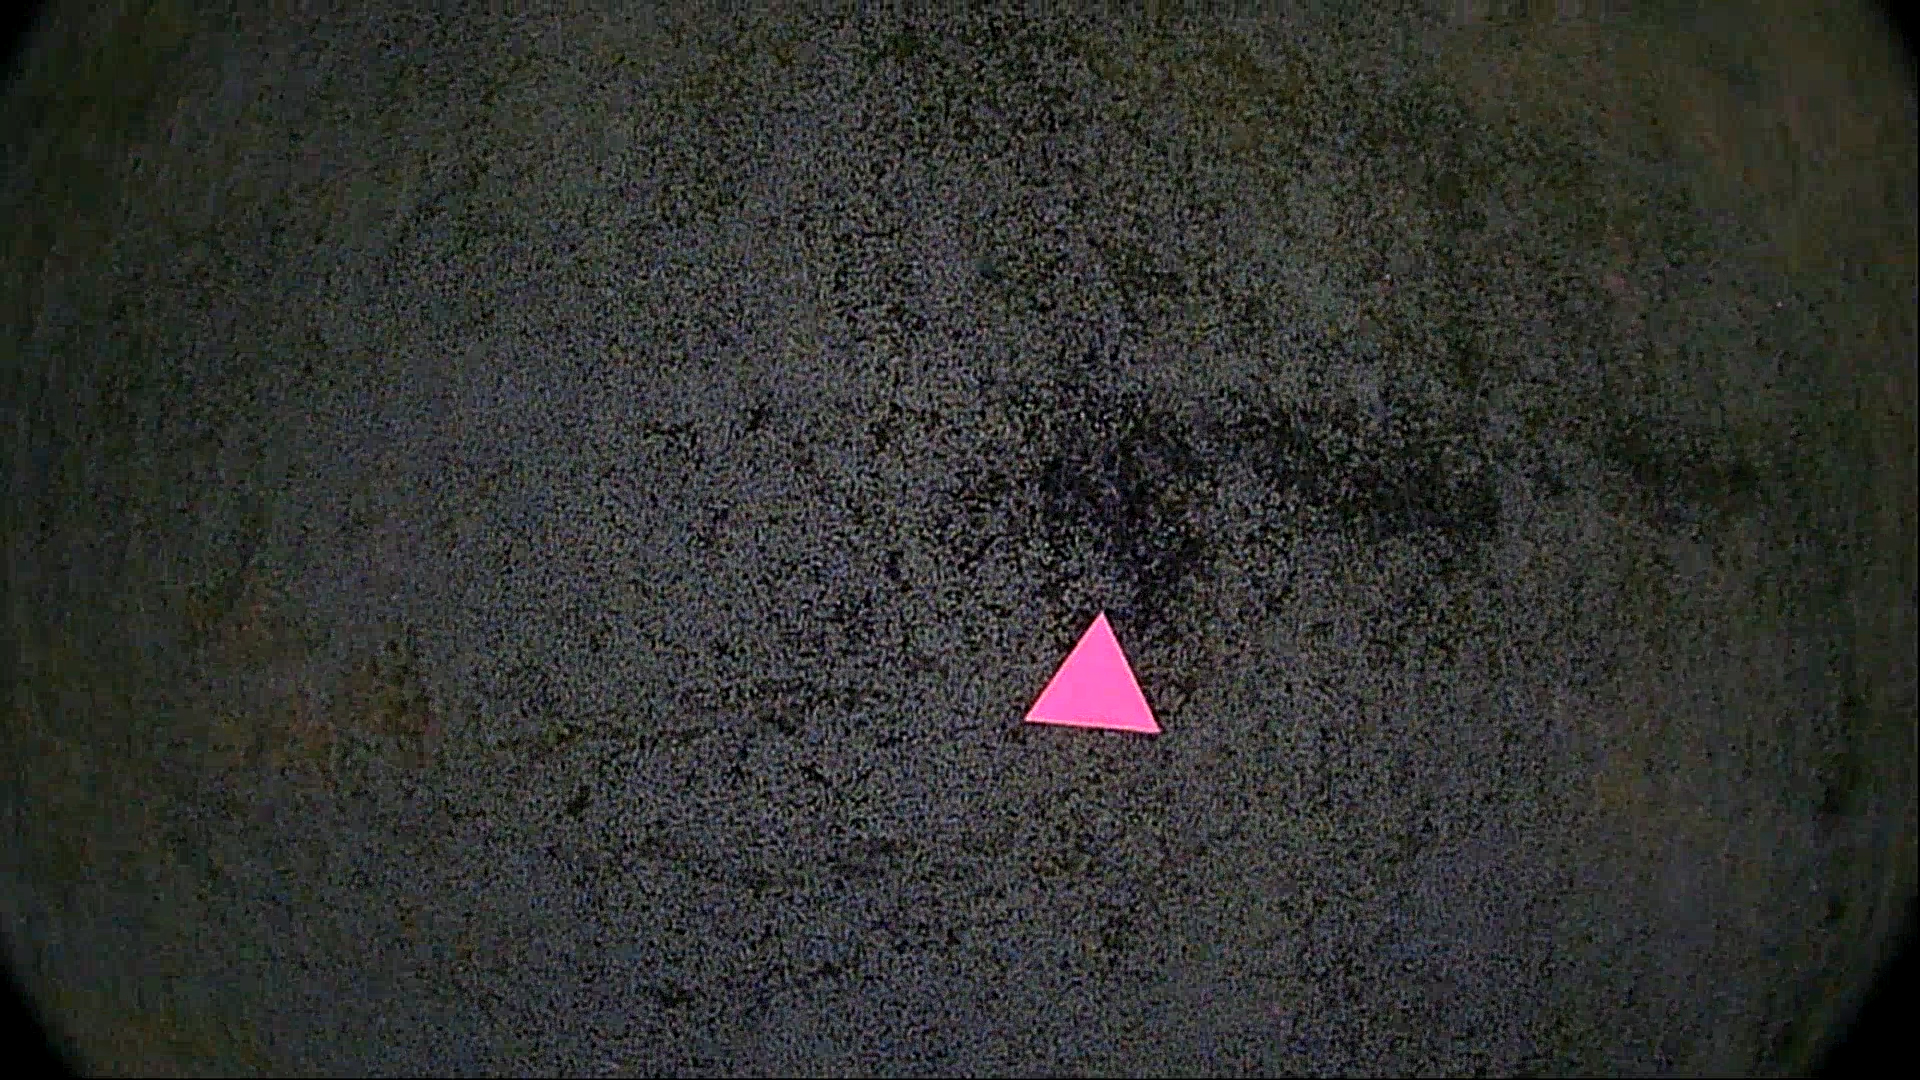triangle: (1017, 603, 1168, 744)
